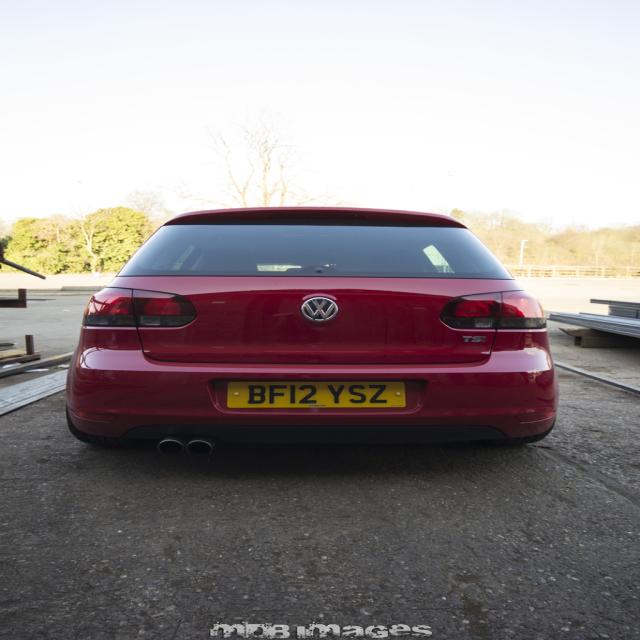car: (60, 200, 556, 446)
